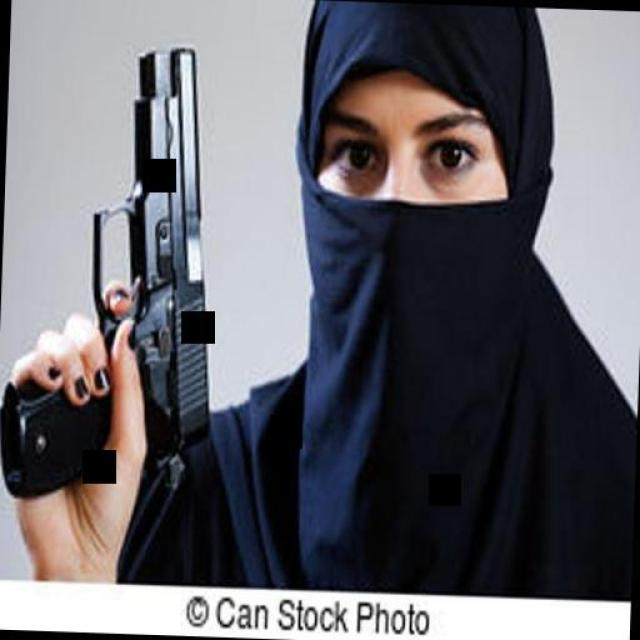gun: (0, 40, 222, 509)
